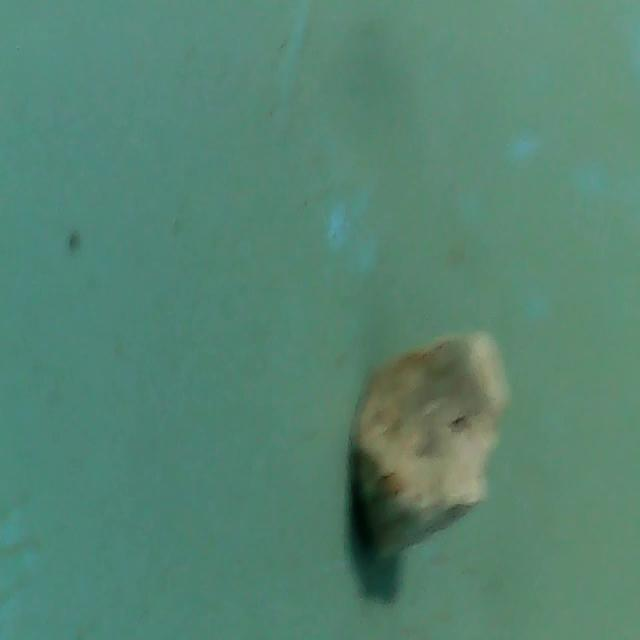rock: (336, 328, 514, 588)
